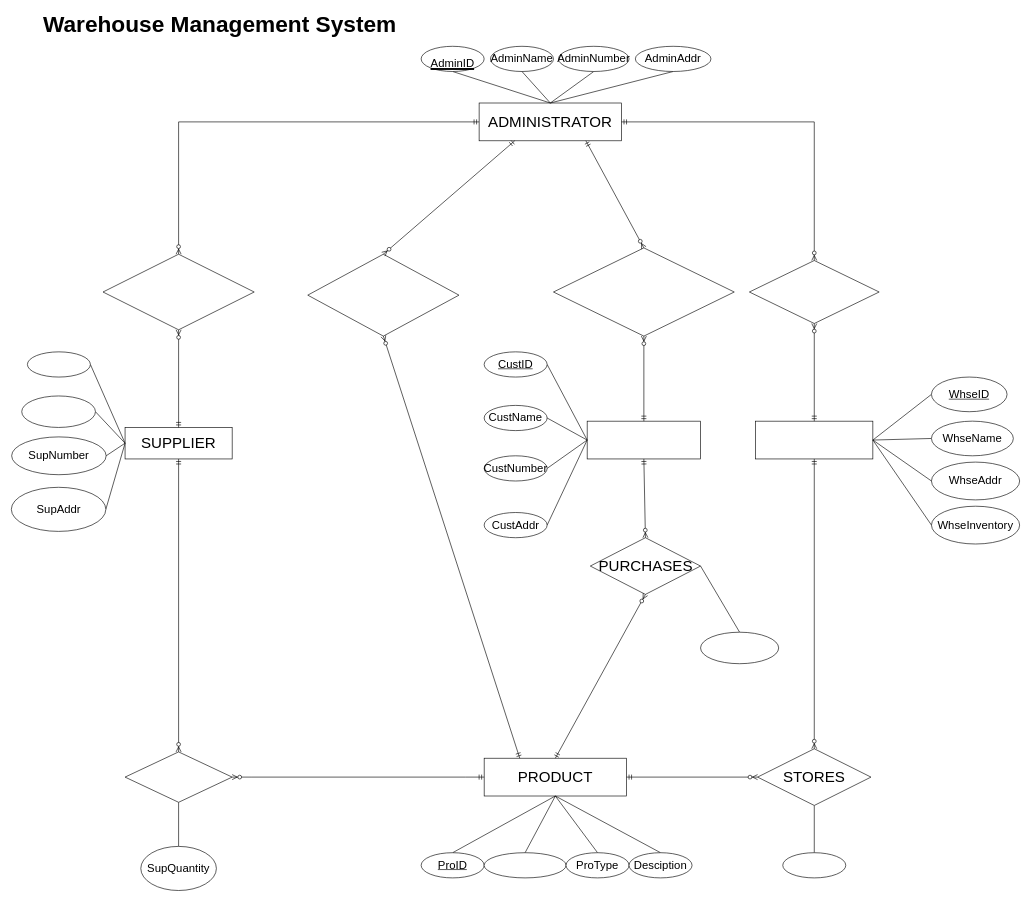
The diagram is 1031 pixels wide and 902 high, and some of its shapes have lost their labels. The centre of each missing label's shape, as x and y in pixels:
COMMUNICATE WITH: the point at 643,291
CONTACTS TO: the point at 178,292
CUSTOMER: the point at 644,440
MANAGES: the point at 814,292
MONITORS: the point at 383,295
ProName: the point at 525,865
PurQuantity: the point at 739,648
SupID: the point at 58,364
SupName: the point at 58,411
SUPPLIES: the point at 178,776
TotalStorage: the point at 814,865
WAREHOUSE: the point at 814,440
